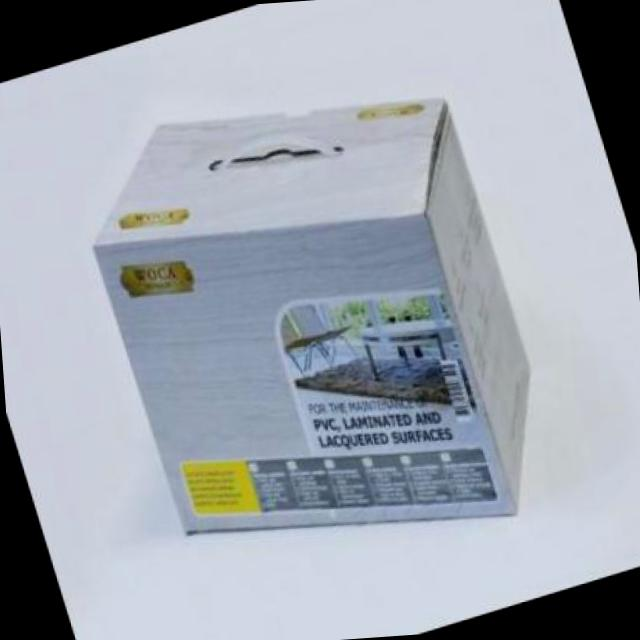box: (44, 8, 596, 634)
